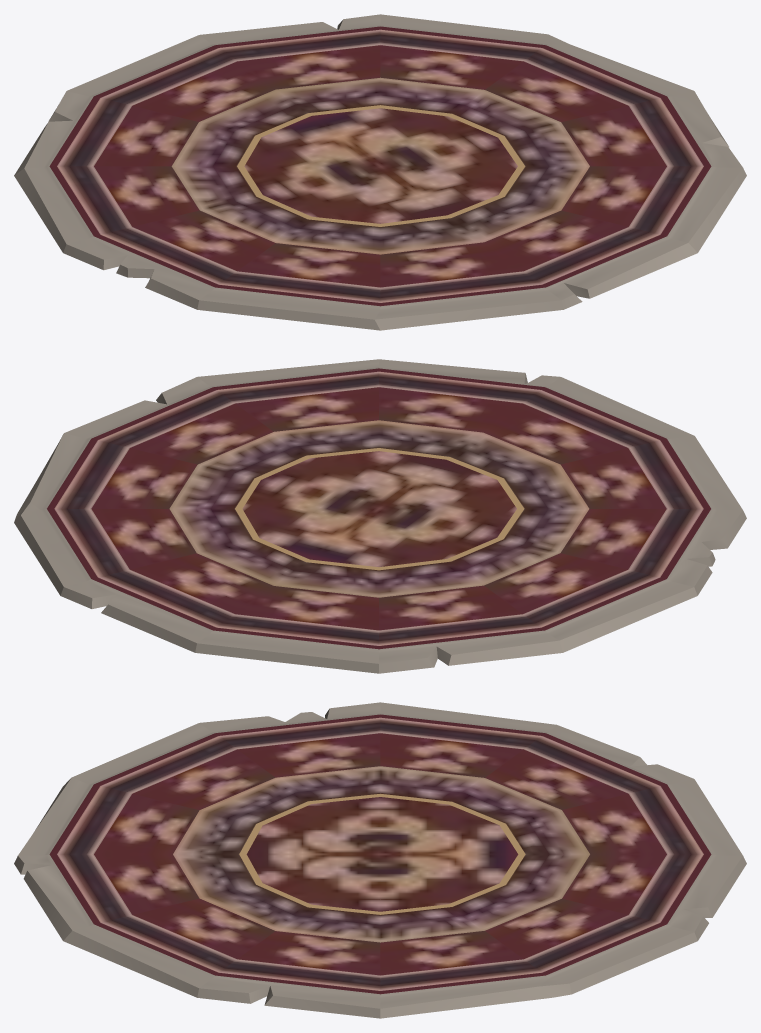
The model's file is rug.glb.
3 renders of one model, top to bottom at view 1: azimuth 30°, elevation 25°; view 2: azimuth 150°, elevation 25°; view 3: azimuth 270°, elevation 25°, orthographic.
Parts seen in each view (by area): view 1: SM_Prop_Rug_02_Round; view 2: SM_Prop_Rug_02_Round; view 3: SM_Prop_Rug_02_Round.
Part boxes in pixels (x1,y1,x2,y2): SM_Prop_Rug_02_Round: [14, 14, 746, 330]; SM_Prop_Rug_02_Round: [14, 359, 746, 673]; SM_Prop_Rug_02_Round: [14, 702, 746, 1018].
Size of the model in its own units: 3.25 by 0.0459 by 3.25.
1 material, 1 textured.
